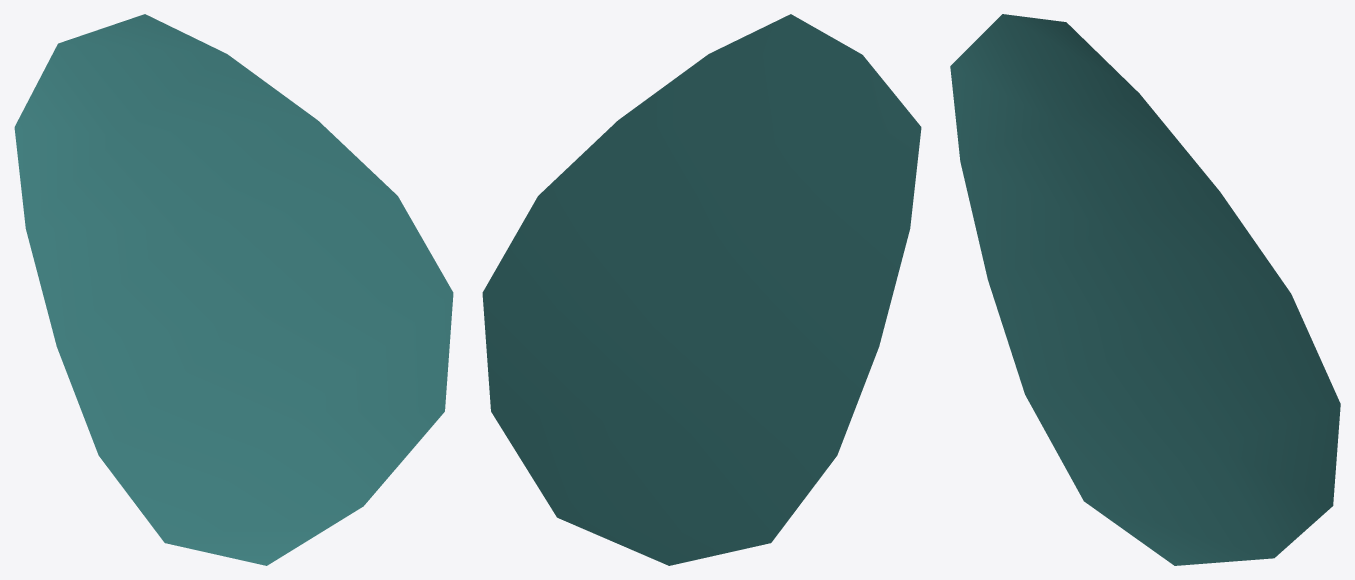
File: budgie_feather_flight_tertiary_056.obj
3 renders of one model, left to right at view 1: azimuth 30°, elevation 25°; view 2: azimuth 150°, elevation 25°; view 3: azimuth 330°, elevation 25°, orthographic. The views are drawn at different scales.
Parts seen in each view (by area): view 1: feather_flight_tertiary_056; view 2: feather_flight_tertiary_056; view 3: feather_flight_tertiary_056.
Part boxes in pixels (x1,y1,x2,y2): feather_flight_tertiary_056: [14, 14, 453, 565]; feather_flight_tertiary_056: [482, 14, 921, 565]; feather_flight_tertiary_056: [950, 14, 1340, 565].
Size of the model in its own units: 0.0107 by 0.0135 by 0.000322.
